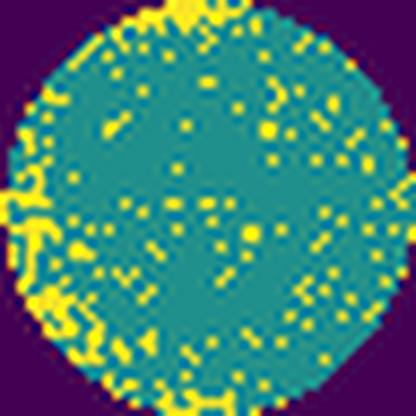Edge-Loc: (0, 162, 65, 299), (108, 0, 262, 51), (27, 284, 85, 345)
